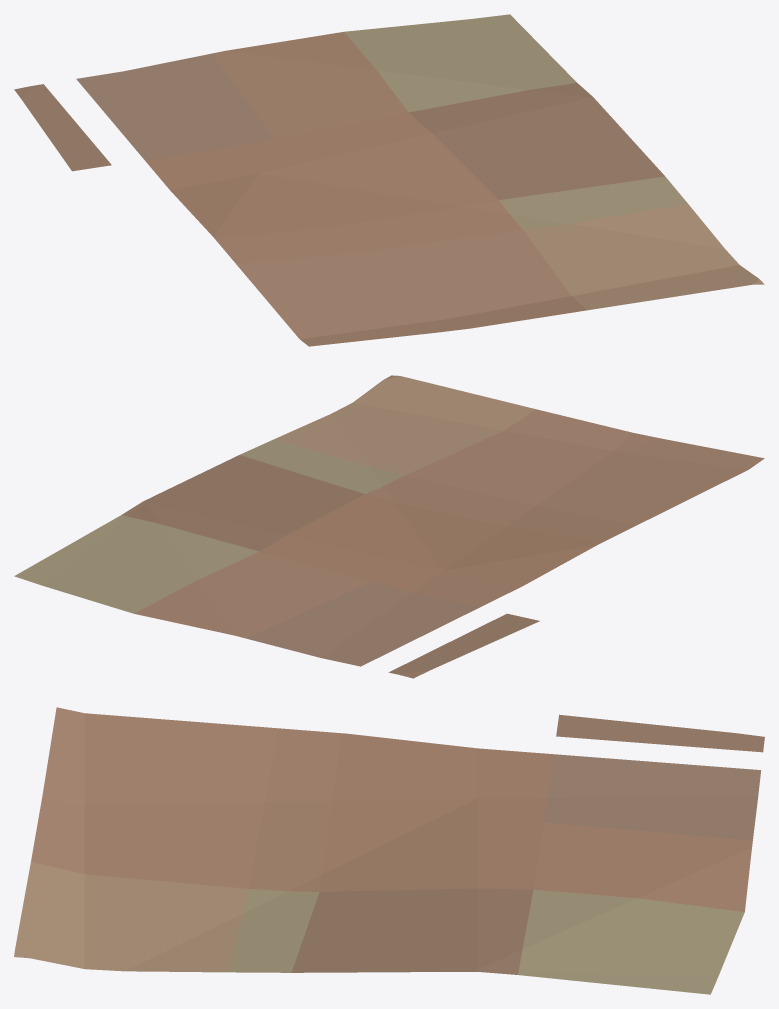
File: farm_-58_-54_soil.glb
3 views of the same model, one above another, from view 1: azimuth 30°, elevation 25°; view 2: azimuth 150°, elevation 25°; view 3: azimuth 270°, elevation 25° (orthographic). The views are drawn at different scales.
Visible parts, largest first — view 1: geometry_0; view 2: geometry_0; view 3: geometry_0.
Boxes of the visible parts, bbox=[...] form: geometry_0: bbox=[14, 14, 764, 346]; geometry_0: bbox=[14, 375, 764, 678]; geometry_0: bbox=[14, 707, 764, 994].
Size of the model in its own units: 126 by 8.5 by 153.
